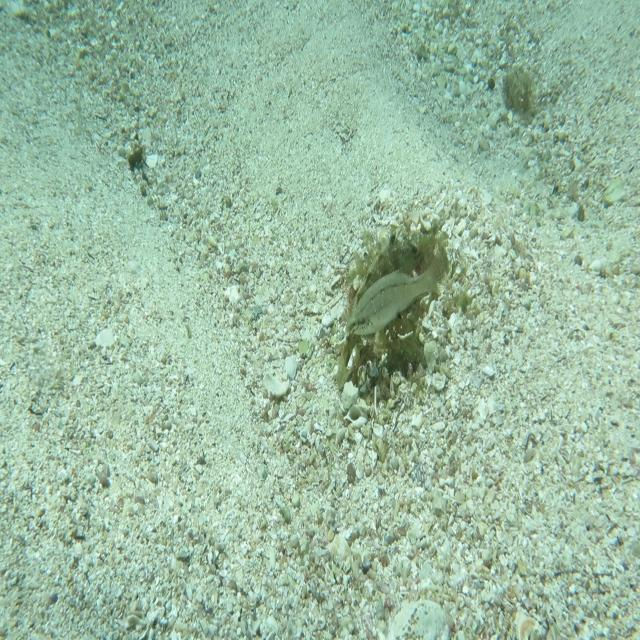BK_SW: (334, 227, 432, 390)
female: (346, 242, 450, 338)
nest: (329, 209, 449, 408)
vegetation: (502, 62, 538, 119), (124, 144, 145, 171)
